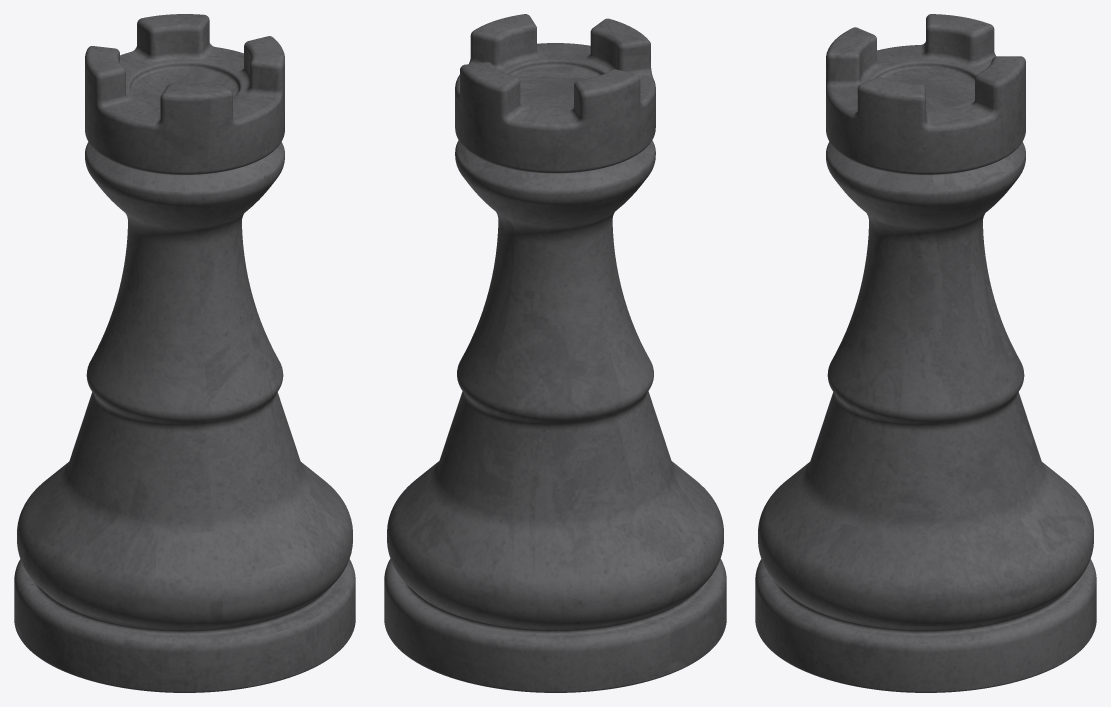
The model's file is brook.glb.
The picture shows the model from 3 angles, left to right: view 1: azimuth 30°, elevation 25°; view 2: azimuth 150°, elevation 25°; view 3: azimuth 270°, elevation 25°; orthographic projection.
Visible parts, largest first — view 1: rook; view 2: rook; view 3: rook.
Boxes of the visible parts, box(x1,y1,x2,y2) form: rook: box(14, 14, 355, 692); rook: box(384, 14, 726, 692); rook: box(755, 14, 1096, 692).
Size of the model in its own units: 0.03 by 0.055 by 0.03.
Materials: 1 (1 with a texture image).
